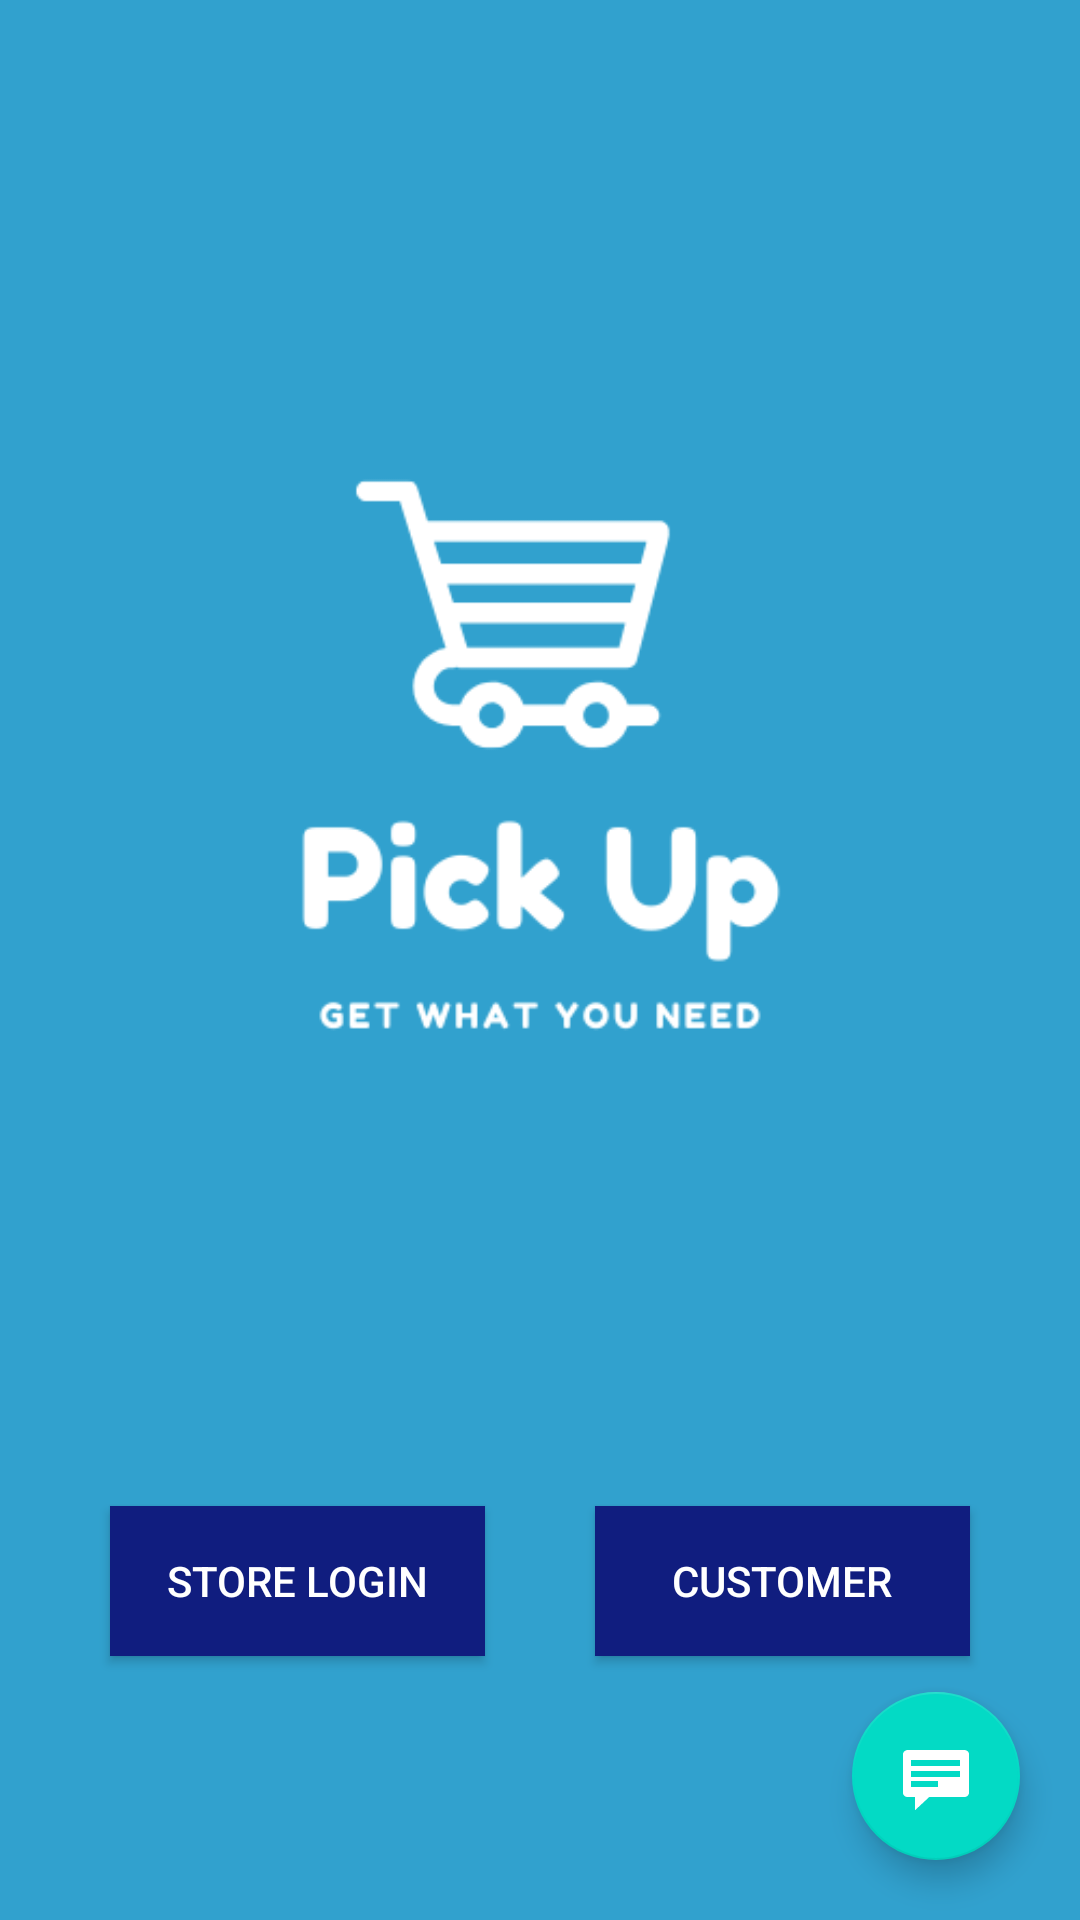

Icons on this 1080 x 1920 Android screen, each with the point to tap as (x,y):
chat: (936,1776)
